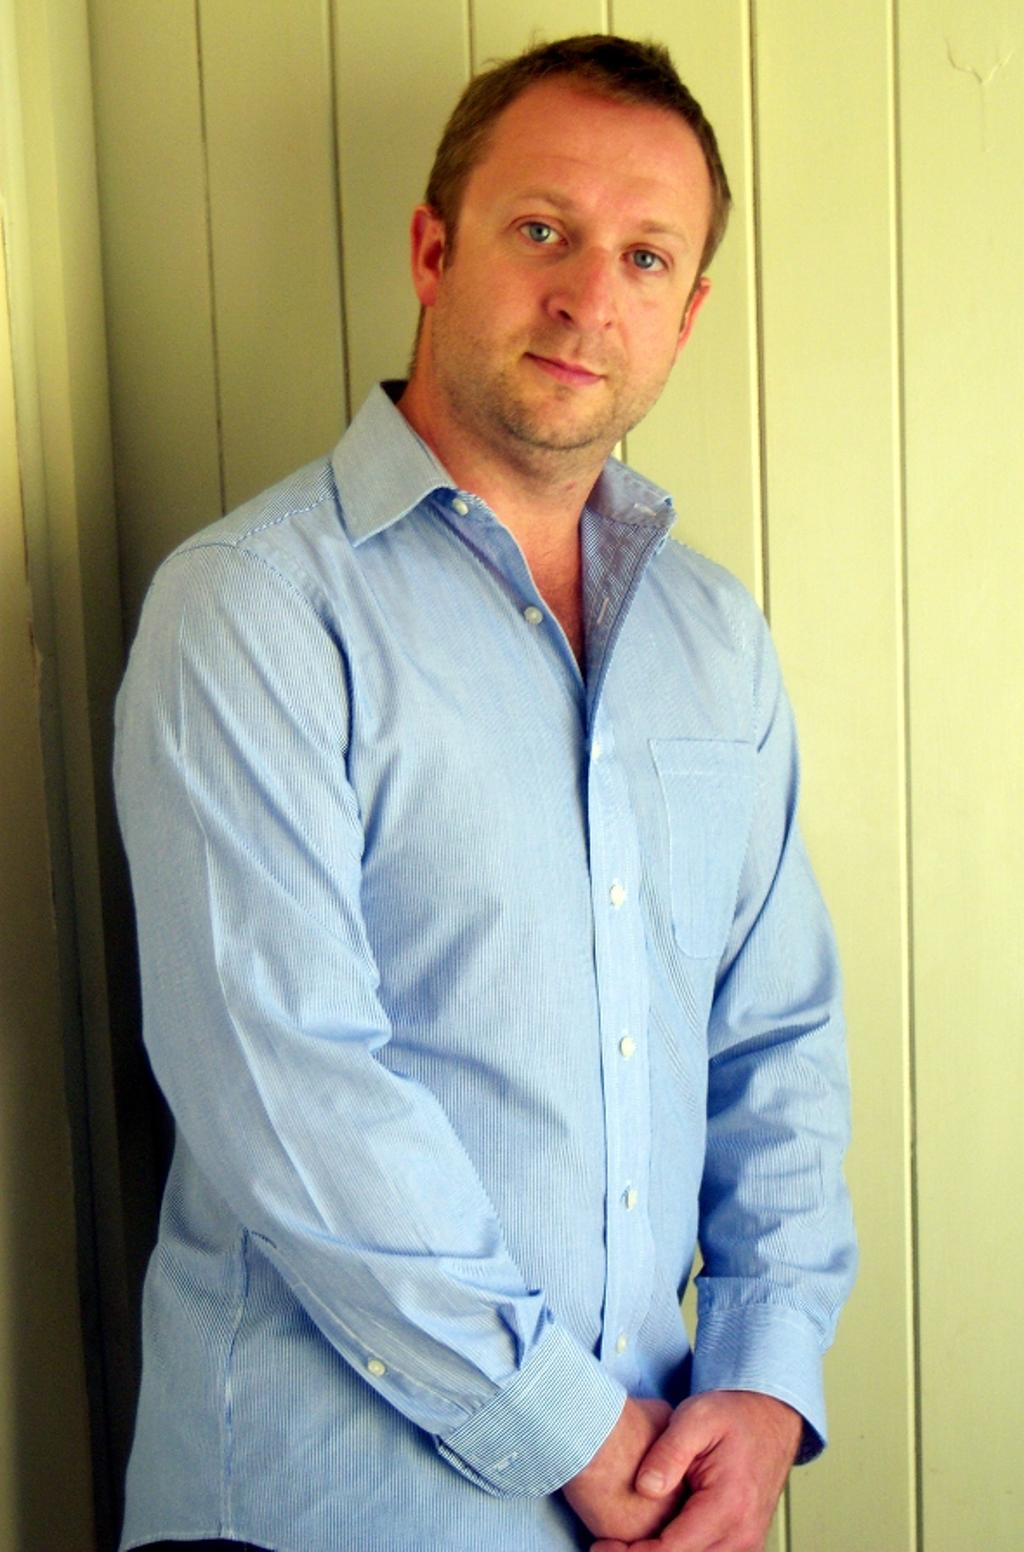face: (451, 64, 712, 467)
